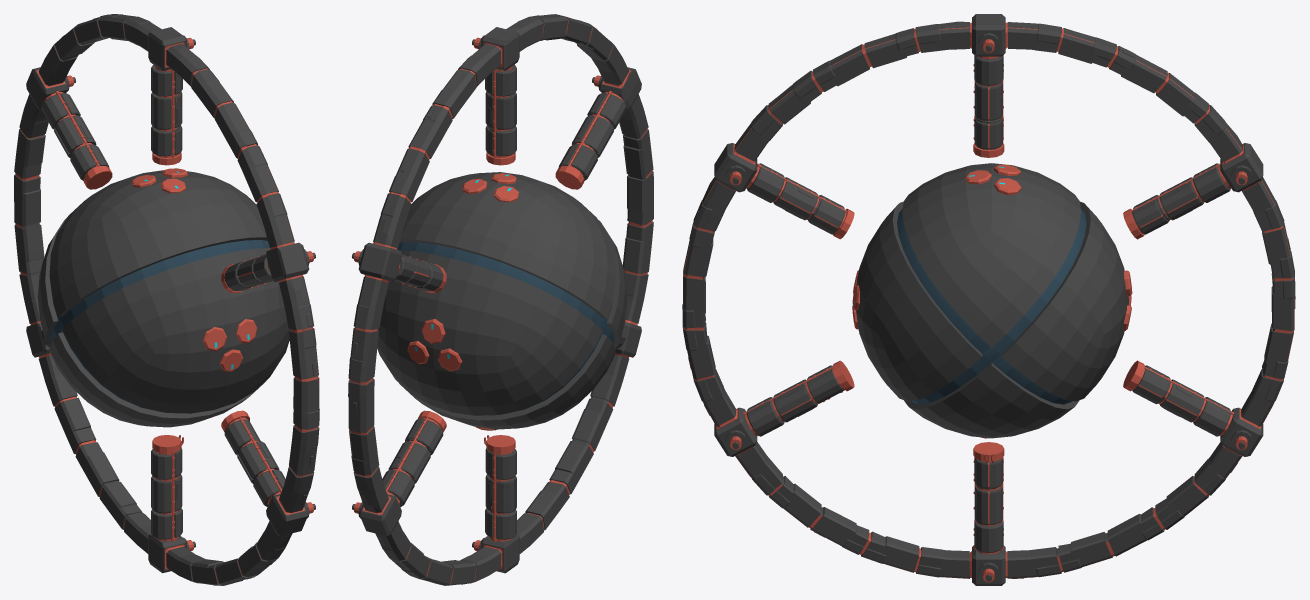
The model's file is boss02.fbx.
3 views of the same model, side by side, from view 1: azimuth 30°, elevation 25°; view 2: azimuth 150°, elevation 25°; view 3: azimuth 270°, elevation 25° (orthographic). The views are drawn at different scales.
Parts seen in each view (by area): view 1: boss02, boss02-ring; view 2: boss02-ring, boss02; view 3: boss02-ring, boss02.
Boxes of the visible parts, left/top/right/bottom form: boss02: left=37, top=168, right=290, bottom=427; boss02-ring: left=14, top=14, right=319, bottom=585; boss02-ring: left=348, top=14, right=653, bottom=585; boss02: left=377, top=172, right=627, bottom=430; boss02-ring: left=682, top=14, right=1295, bottom=585; boss02: left=852, top=163, right=1132, bottom=438.
Size of the model in its own units: 816 by 1902 by 1884.
